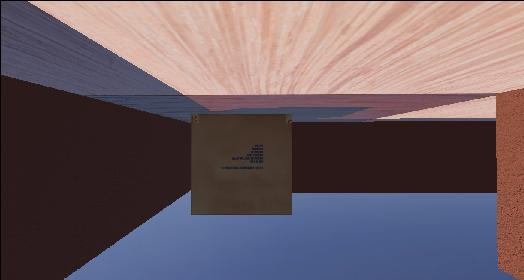CardboardBox: (178, 106, 300, 224)
